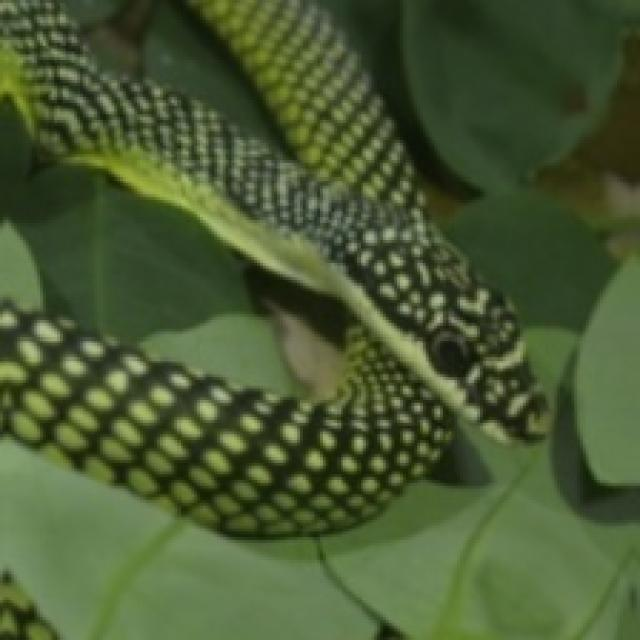paradise tree snake: (0, 0, 546, 534)
